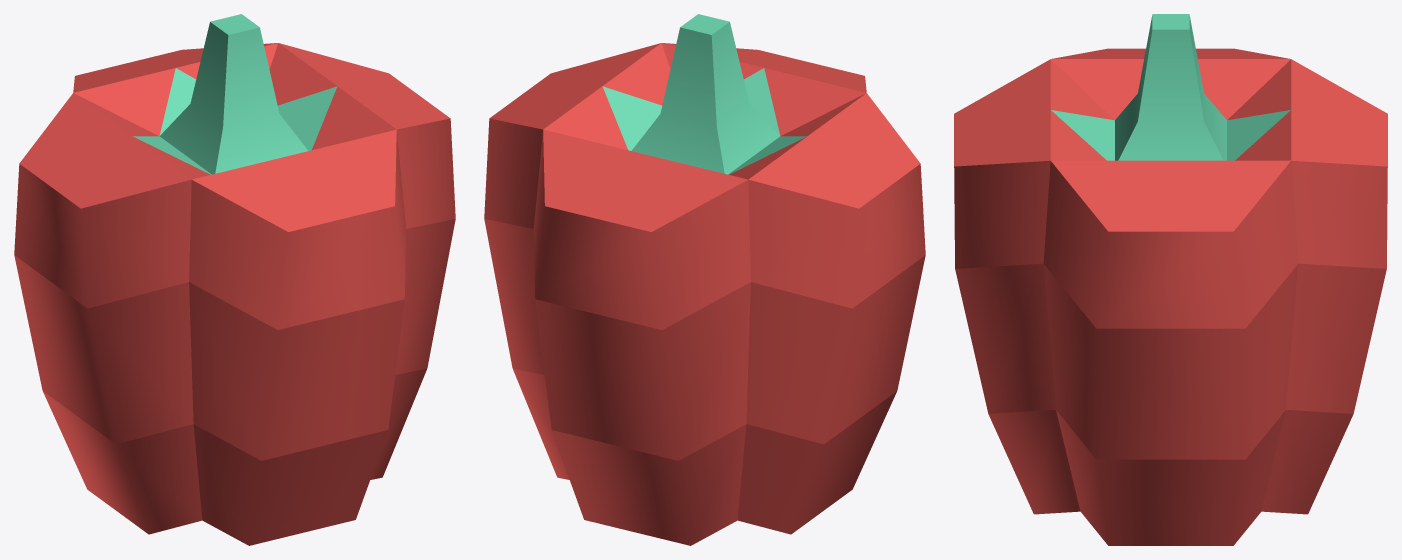
File: Capsicum.glb
The picture shows the model from 3 angles, left to right: view 1: azimuth 30°, elevation 25°; view 2: azimuth 150°, elevation 25°; view 3: azimuth 270°, elevation 25°; orthographic projection.
Parts seen in each view (by area): view 1: paprika; view 2: paprika; view 3: paprika.
Part boxes in pixels (x1,y1,x2,y2): paprika: (14,14,455,545); paprika: (484,14,925,545); paprika: (954,14,1387,545).
Bounding box in the file's own units: 0.1681 × 0.1993 × 0.1681.
